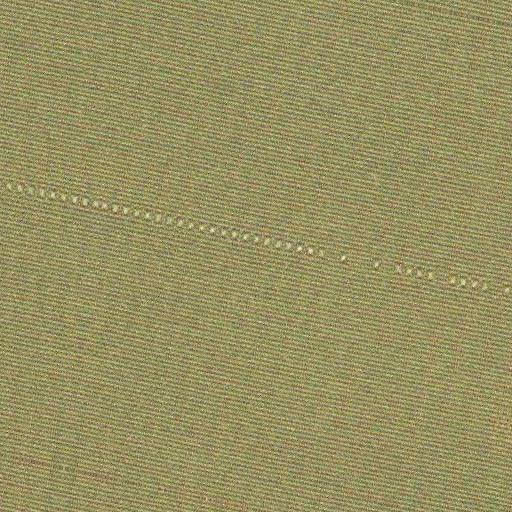slub: (6, 167, 512, 324)
